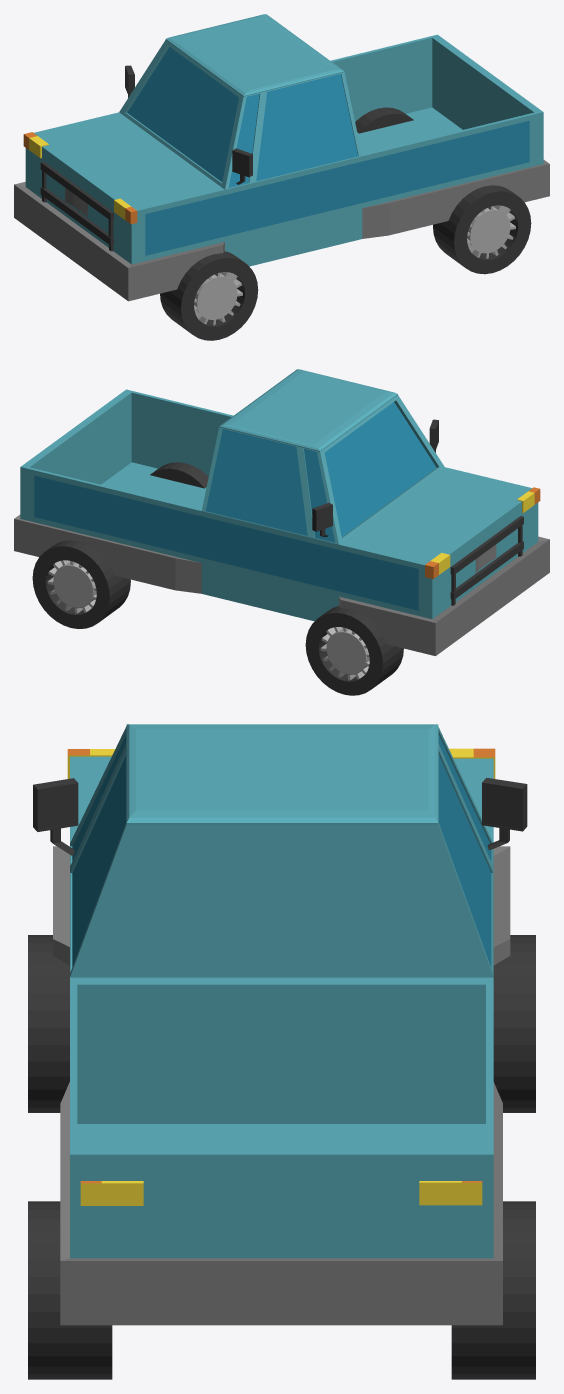
The model's file is Truck Blue.fbx.
3 renders of one model, top to bottom at view 1: azimuth 30°, elevation 25°; view 2: azimuth 150°, elevation 25°; view 3: azimuth 270°, elevation 25°, orthographic. The views are drawn at different scales.
Parts seen in each view (by area): view 1: Truck Body.001, Tire.022, Tire.016, Spoke.022, Spoke.017, Pull Bar.002, Tire.023, Mirror.004, Front Light.012; view 2: Truck Body.001, Tire.023, Tire.017, Spoke.021, Spoke.023, Pull Bar.002, Tire.022, Mirror.005, Light Front.012; view 3: Truck Body.001, Tire.022, Tire.023, Tire.017, Tire.016, Mirror.004, Mirror.005, Front Light.013, Light Front.013.
Part boxes in pixels (x1,y1,x2,y2): Truck Body.001: [14, 14, 549, 301]; Tire.022: [433, 185, 531, 274]; Tire.016: [160, 251, 258, 340]; Spoke.022: [467, 205, 515, 258]; Spoke.017: [194, 272, 242, 325]; Pull Bar.002: [40, 161, 113, 251]; Tire.023: [355, 107, 413, 133]; Mirror.004: [232, 148, 252, 184]; Front Light.012: [114, 198, 137, 224]; Truck Body.001: [14, 369, 549, 655]; Tire.023: [32, 540, 130, 628]; Tire.017: [305, 606, 403, 695]; Spoke.021: [320, 627, 369, 680]; Spoke.023: [47, 560, 96, 613]; Pull Bar.002: [450, 516, 523, 605]; Tire.022: [150, 462, 208, 488]; Mirror.005: [312, 503, 332, 536]; Light Front.012: [425, 552, 450, 578]; Truck Body.001: [53, 724, 510, 1325]; Tire.022: [28, 1201, 112, 1379]; Tire.023: [451, 1201, 535, 1379]; Tire.017: [493, 935, 535, 1112]; Tire.016: [28, 935, 69, 1112]; Mirror.004: [33, 778, 78, 855]; Mirror.005: [482, 777, 527, 849]; Front Light.013: [80, 1181, 143, 1205]; Light Front.013: [419, 1181, 482, 1205].
Size of the model in its own units: 404 by 197 by 210.
